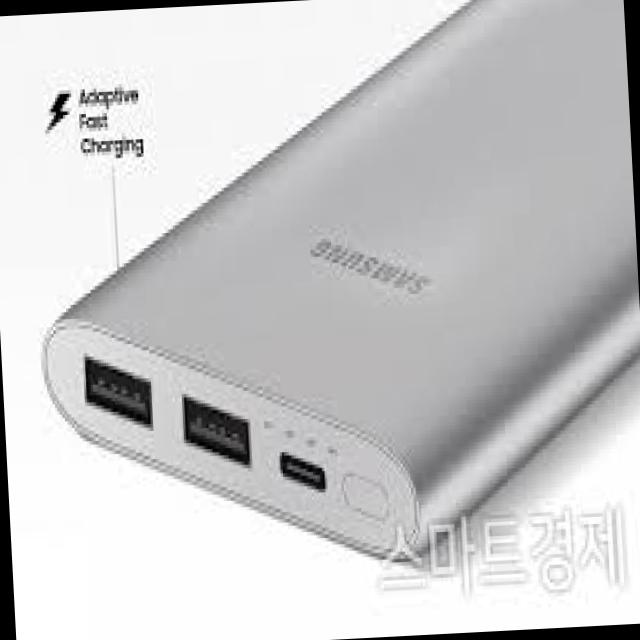power_bank: (21, 0, 640, 577)
